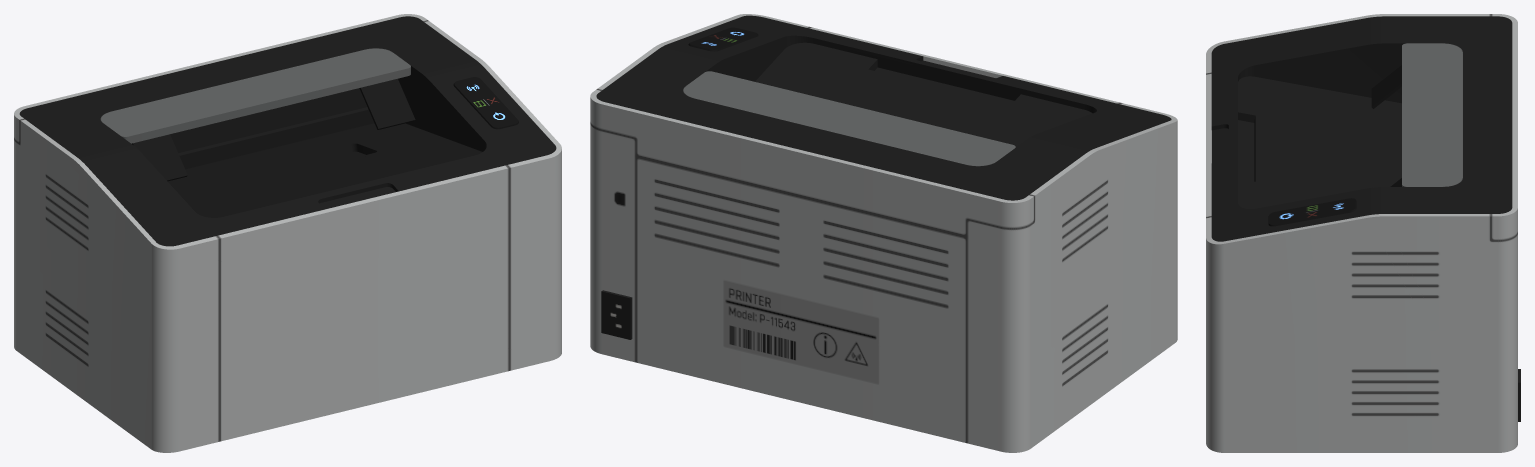
The model's file is printer.glb.
3 views of the same model, side by side, from view 1: azimuth 30°, elevation 25°; view 2: azimuth 150°, elevation 25°; view 3: azimuth 270°, elevation 25° (orthographic). The views are drawn at different scales.
Visible parts, largest first — view 1: Printer_02; view 2: Printer_02; view 3: Printer_02.
Part boxes in pixels (left/top/right/bottom): Printer_02: left=14, top=14, right=561, bottom=452; Printer_02: left=590, top=14, right=1177, bottom=452; Printer_02: left=1206, top=14, right=1520, bottom=452.
Size of the model in its own units: 0.33 by 0.18 by 0.217.
Materials: 1 (1 with a texture image).
